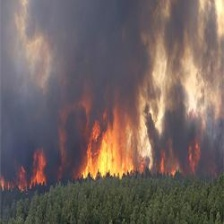fire: (14, 131, 204, 180)
smoke: (1, 2, 206, 127)
